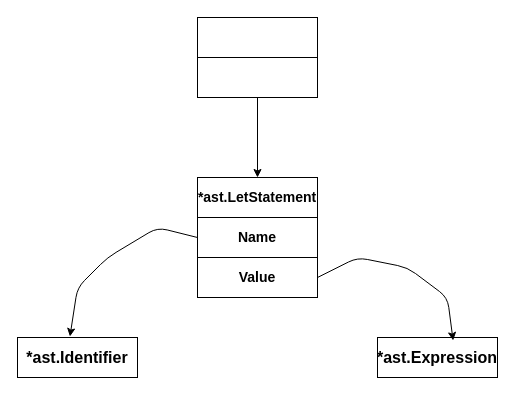
This 515x395 diagram has some shape labels left out. Here are the shapes that lost their labels. From the top down, the centre of each, then its label:
point 257,37: *ast.Program
point 257,77: Statements
